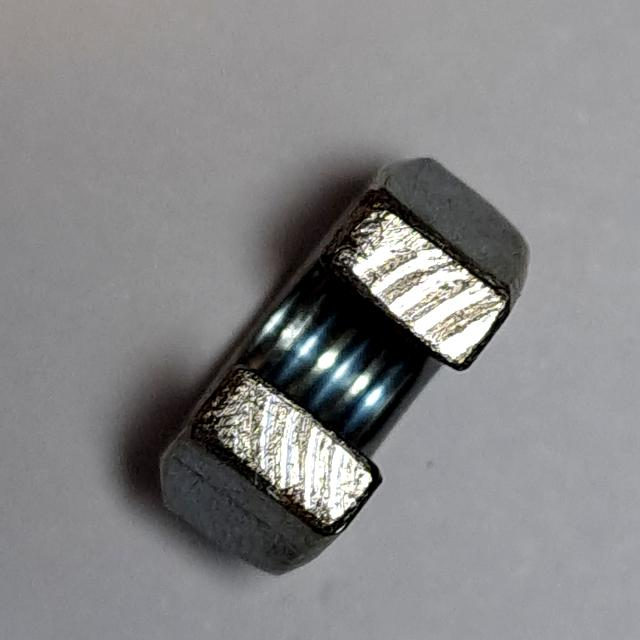Side-Fracture: (145, 147, 542, 592)
